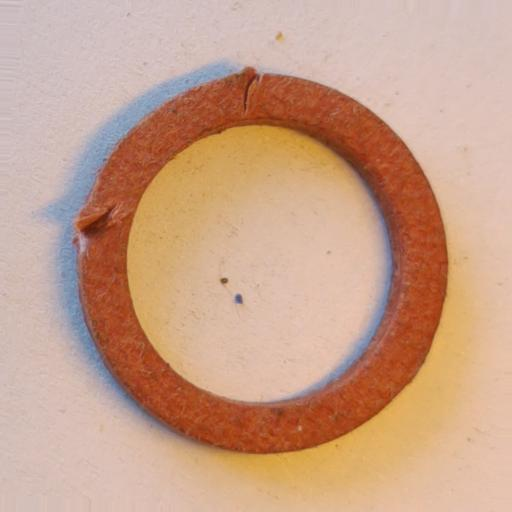defect: (70, 202, 134, 262), (240, 66, 265, 117)
